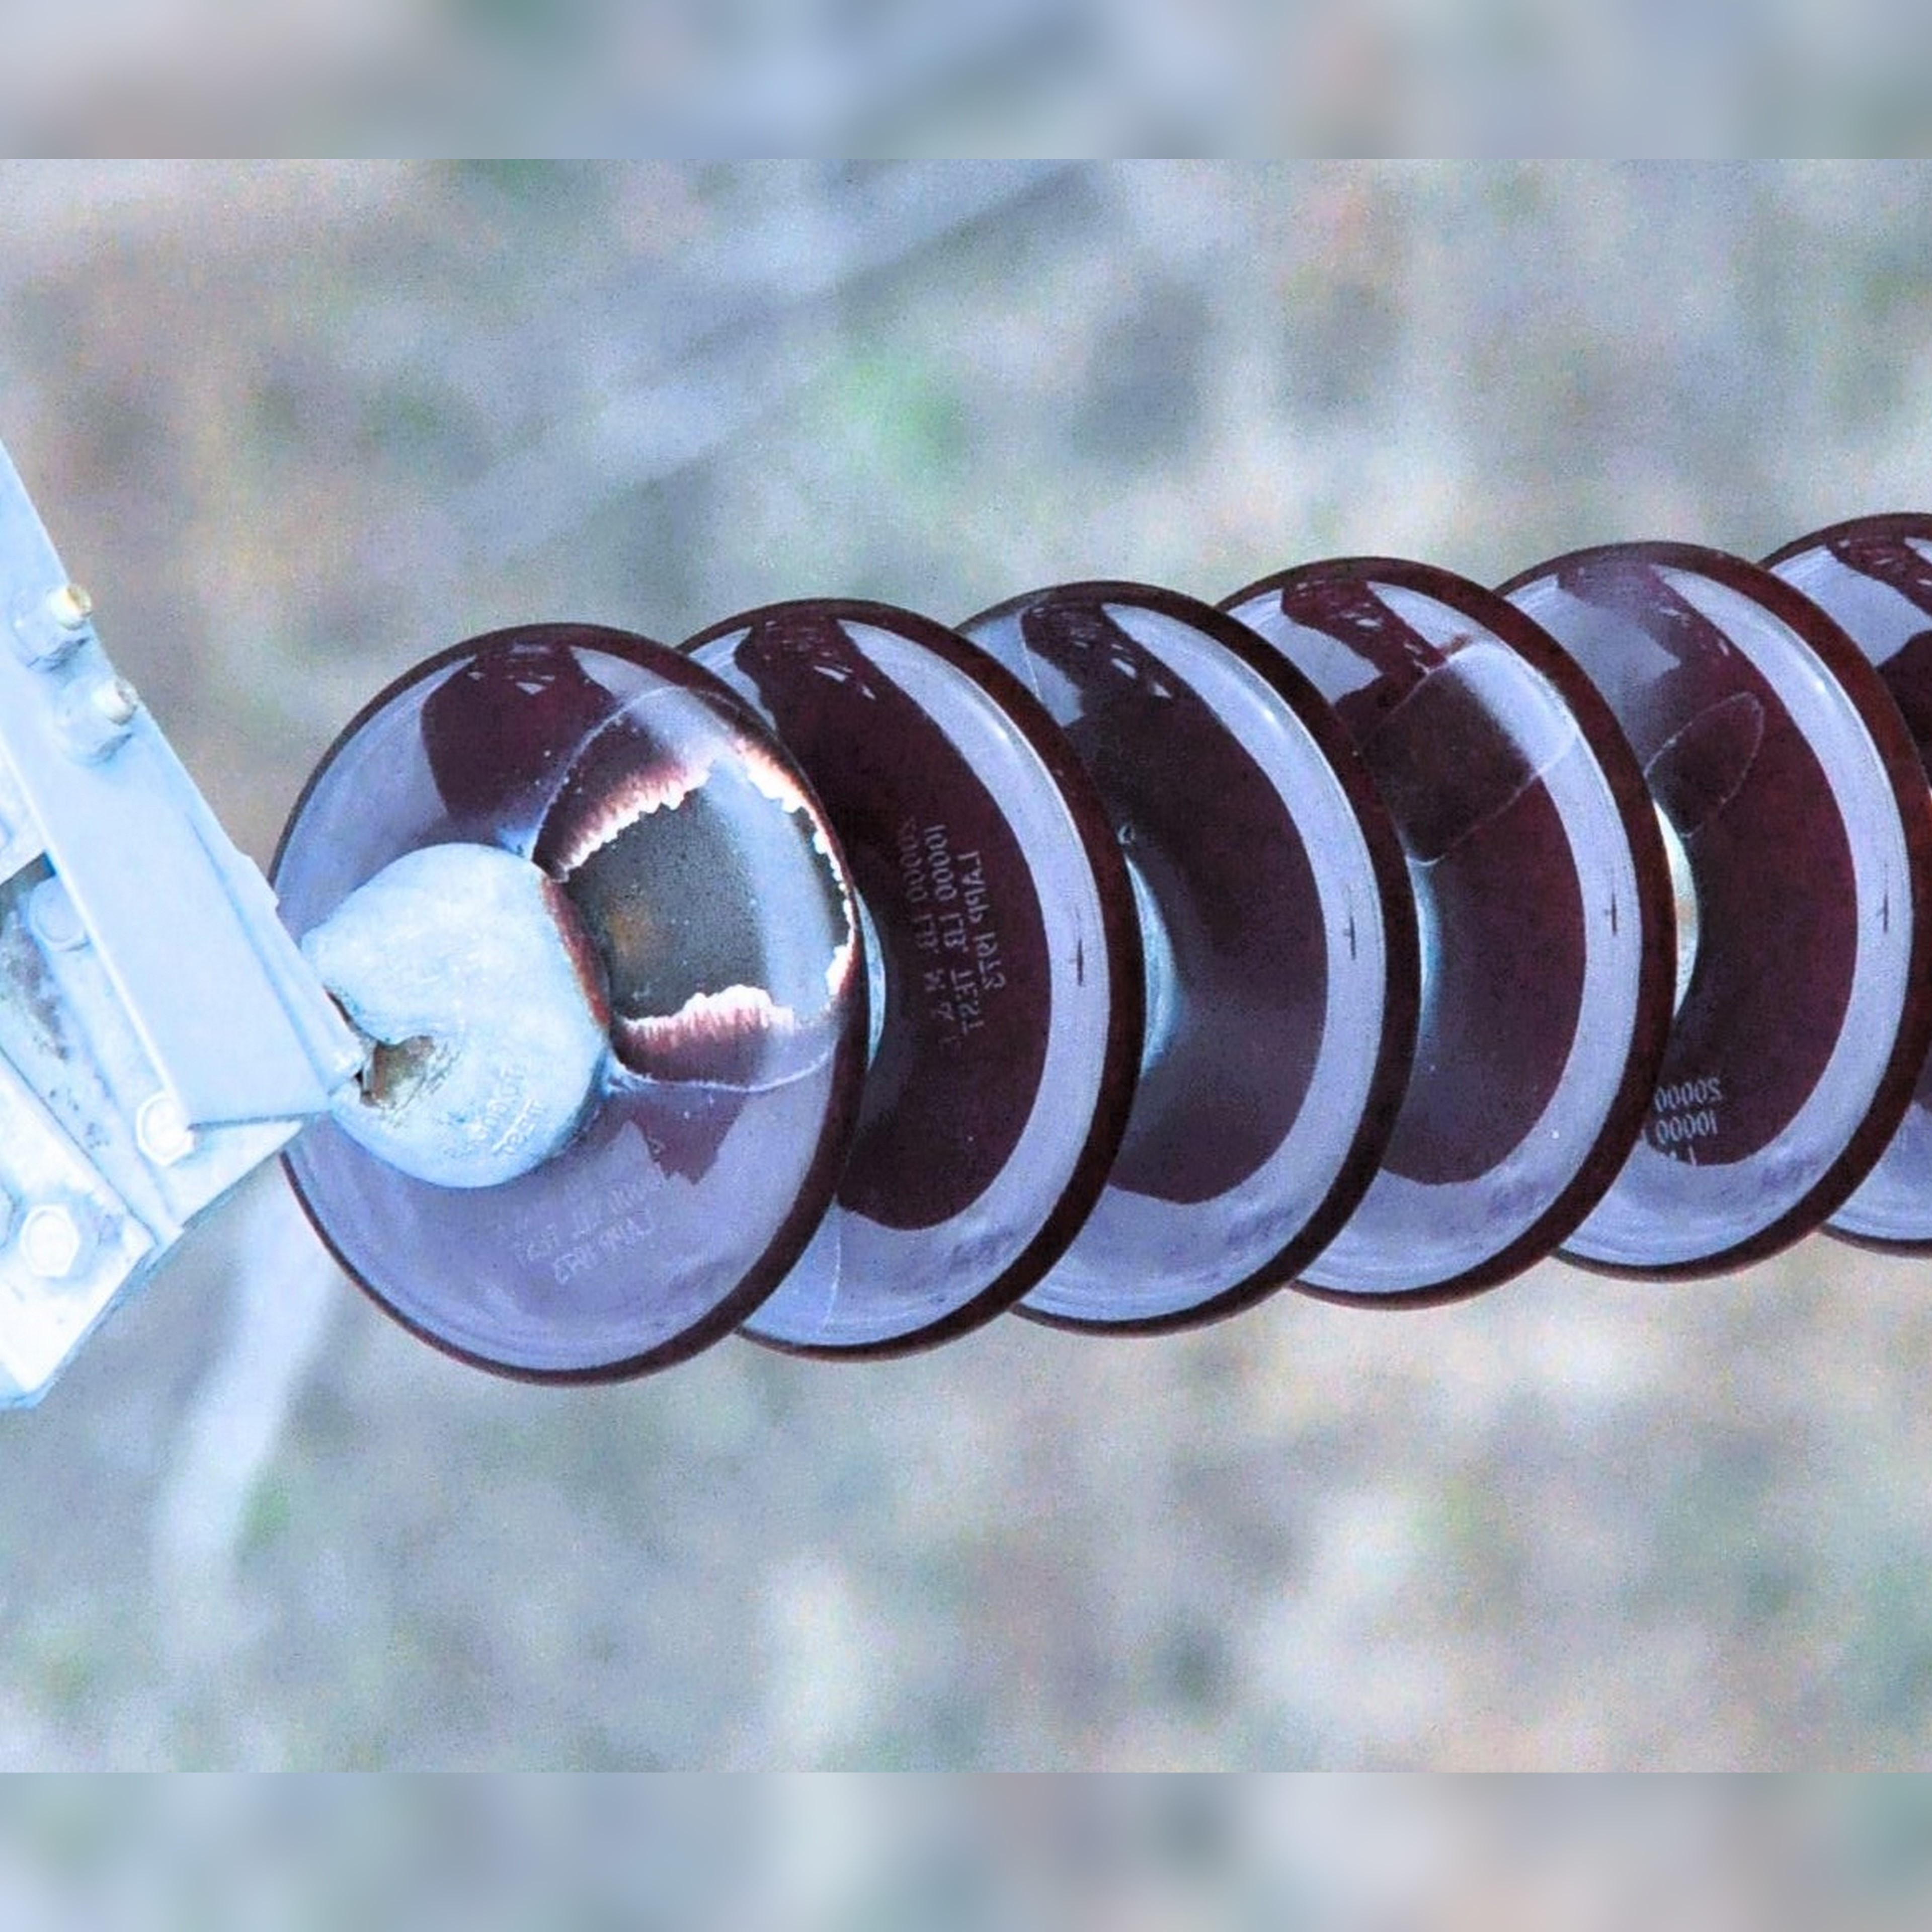Insulator flashover: (271, 607, 879, 1399)
